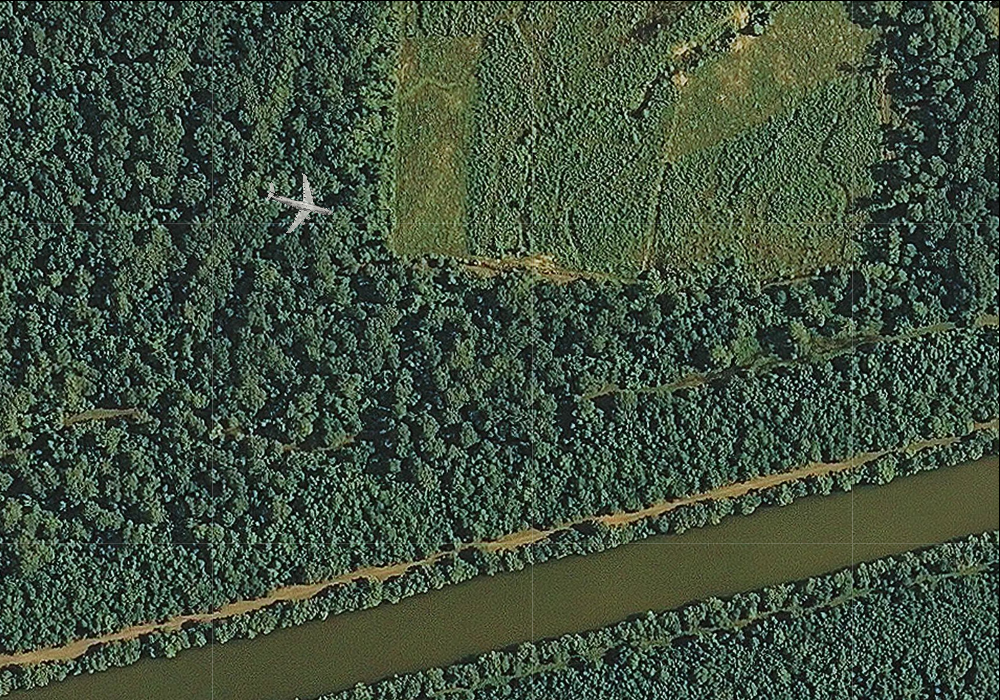plane: (257, 160, 342, 244)
